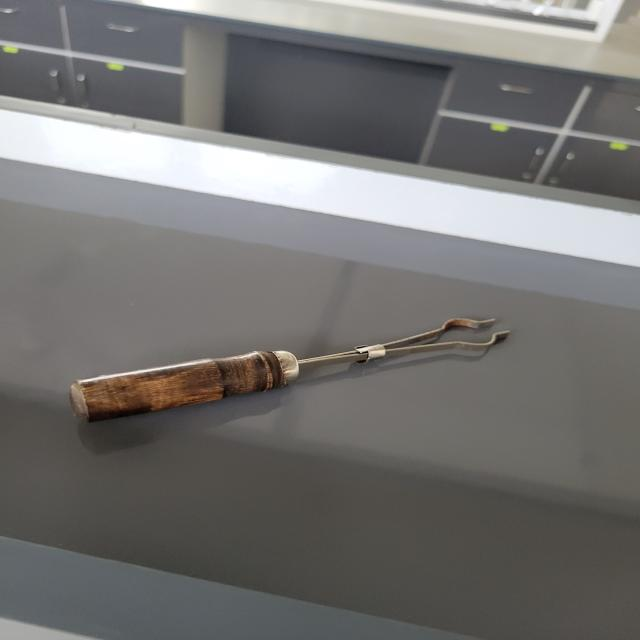TestTube_Holder: (37, 278, 540, 452)
